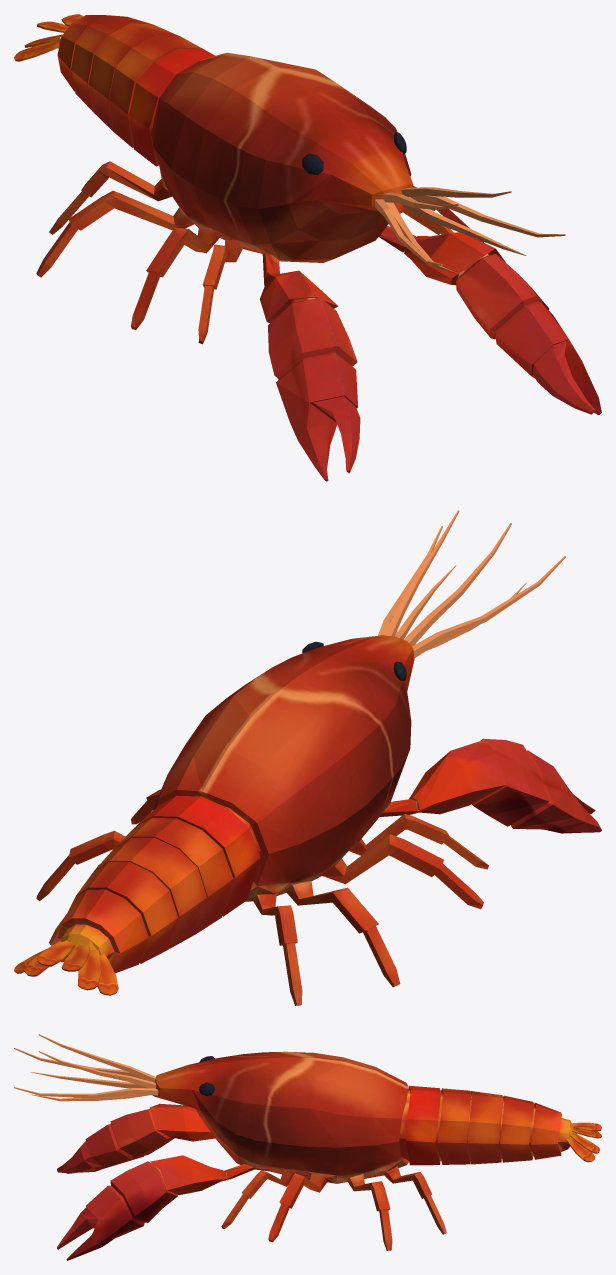
Rendered from eIZvQyUlkAJ.glb.
The picture shows the model from 3 angles, top to bottom: view 1: azimuth 30°, elevation 25°; view 2: azimuth 150°, elevation 25°; view 3: azimuth 270°, elevation 25°; orthographic projection. The views are drawn at different scales.
Parts seen in each view (by area): view 1: Node; view 2: Node; view 3: Node.
Part boxes in pixels (x1,y1,x2,y2): Node: (14, 14, 601, 481); Node: (14, 510, 601, 1005); Node: (14, 1034, 601, 1260).
Size of the model in its own units: 1.43 by 1 by 3.05.
Materials: 4 (2 with a texture image).
